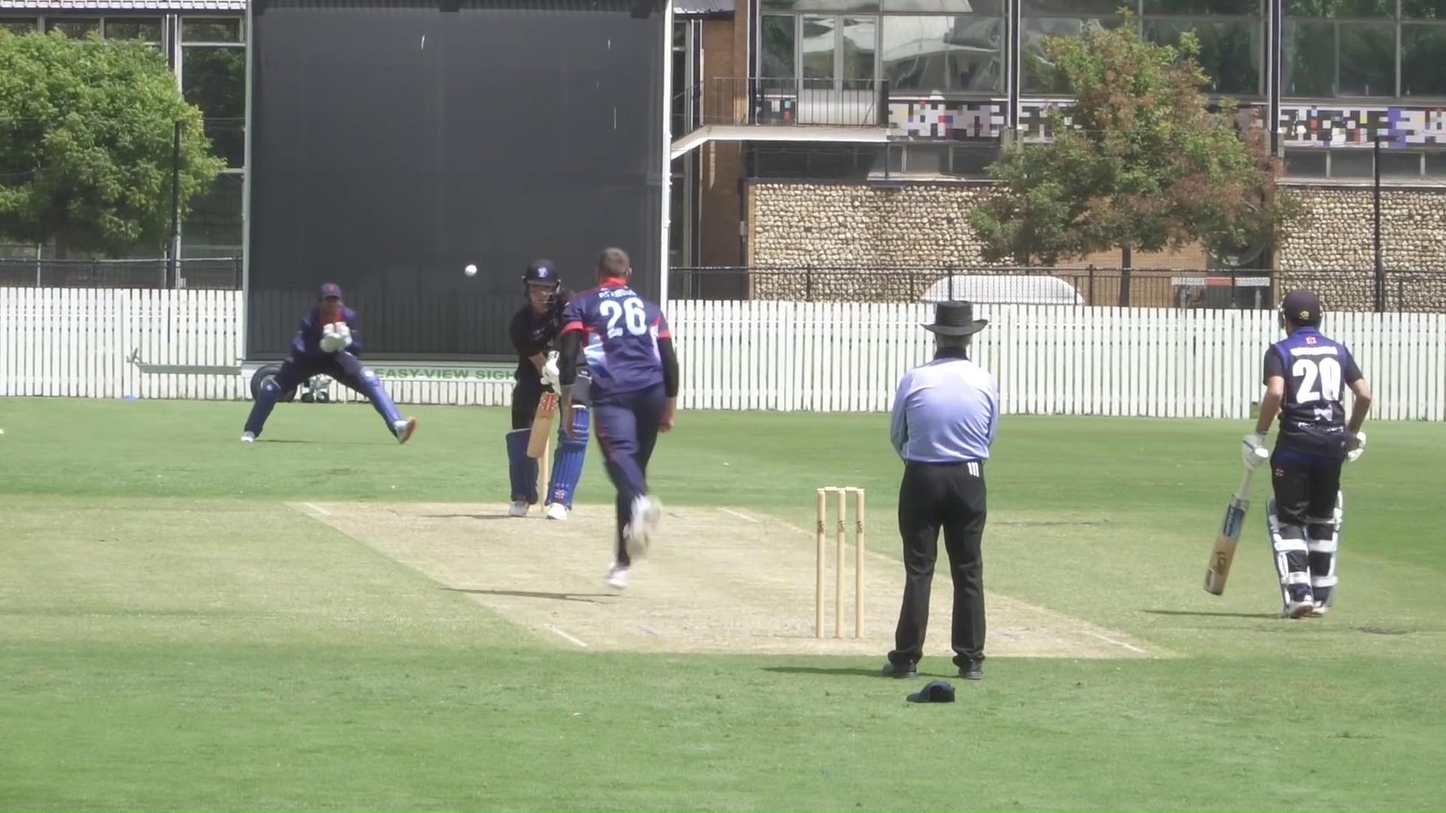ball: (460, 262, 481, 280)
